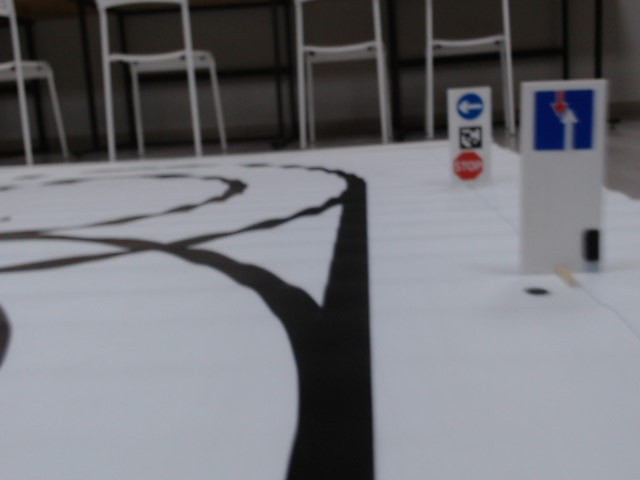Stop: (453, 151, 483, 179)
priority_movement: (529, 86, 594, 152)
